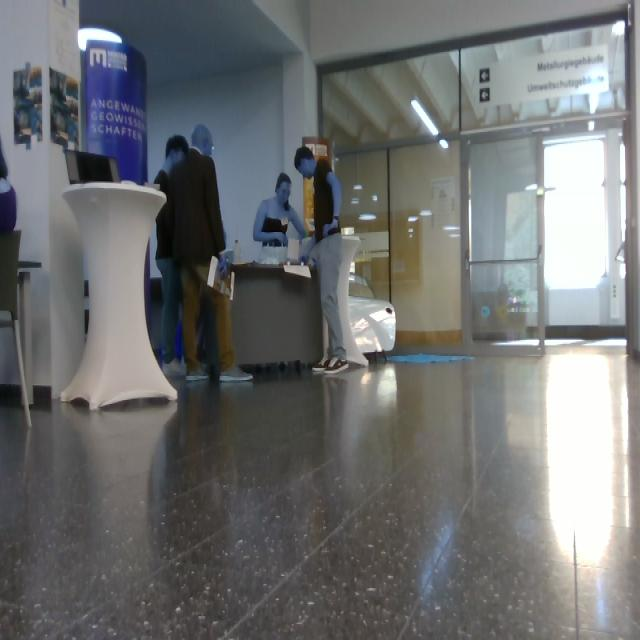chair: (1, 230, 30, 424)
desk: (231, 264, 323, 373)
door: (320, 10, 625, 356)
light bulb: (79, 28, 123, 52), (411, 100, 439, 137), (440, 140, 448, 149)
person: (171, 125, 252, 382), (296, 146, 349, 373), (155, 136, 190, 378), (254, 173, 306, 264), (1, 138, 17, 234)
pillar: (1, 1, 85, 400), (1, 329, 20, 385)
table: (62, 182, 177, 410), (338, 236, 367, 366)
tiled floor: (1, 348, 640, 640)
